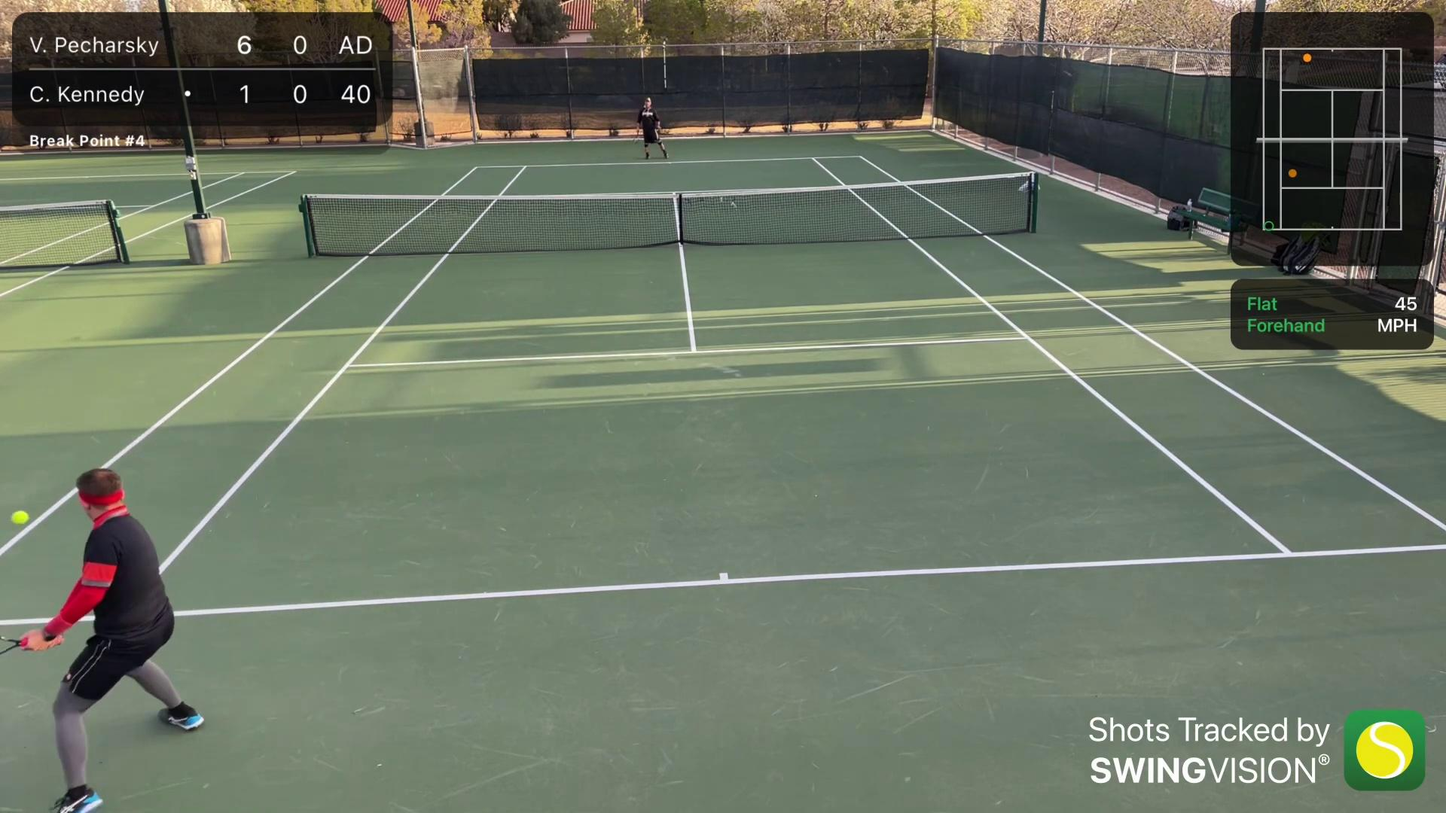ball: (8, 507, 32, 525)
